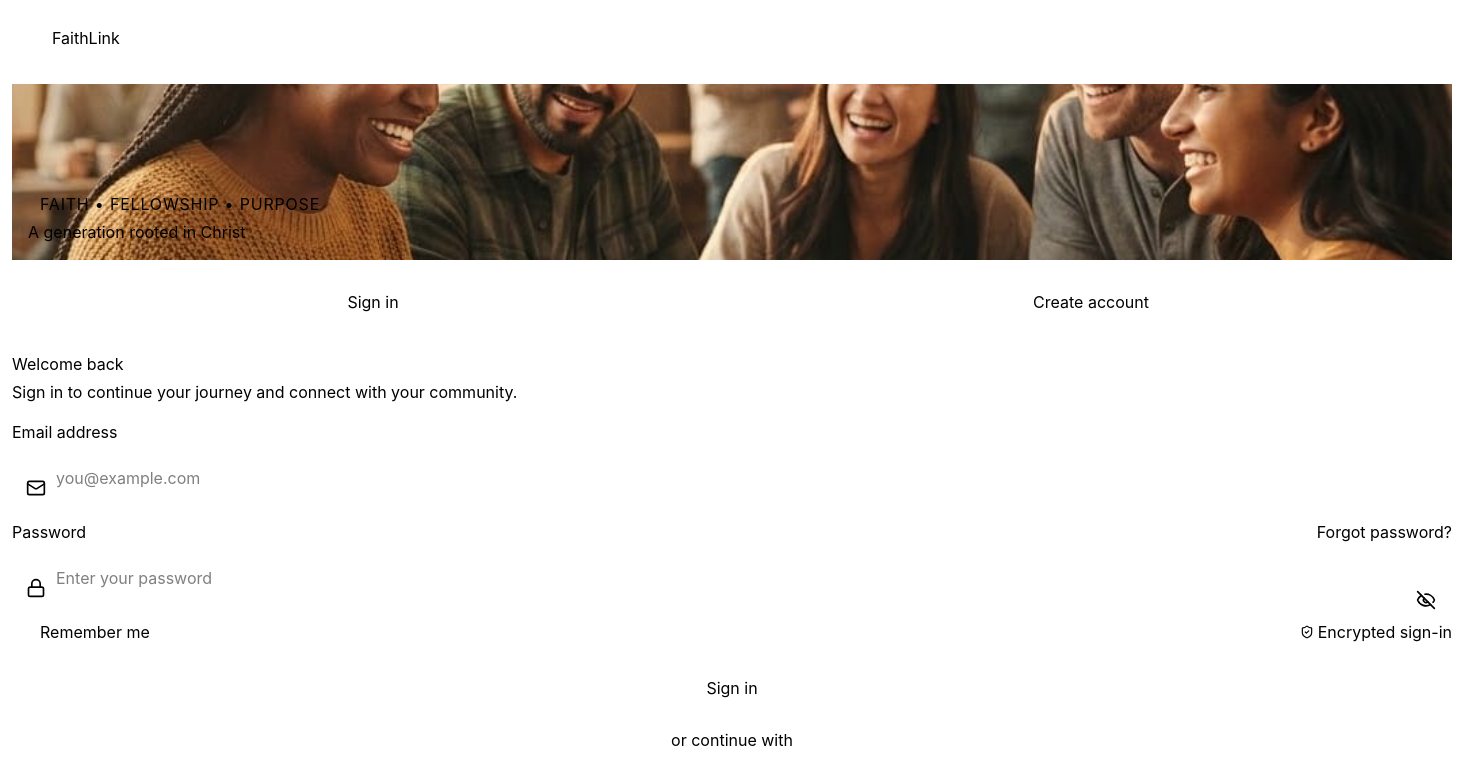
it: Sign in page › shows the Stitch error for a failed sign-in, without saying which detail was wrong
Type "alex@example.com" into the field labelled "Email address". click: (732, 478)
box: top-left (12, 452), bottom-right (1452, 504)
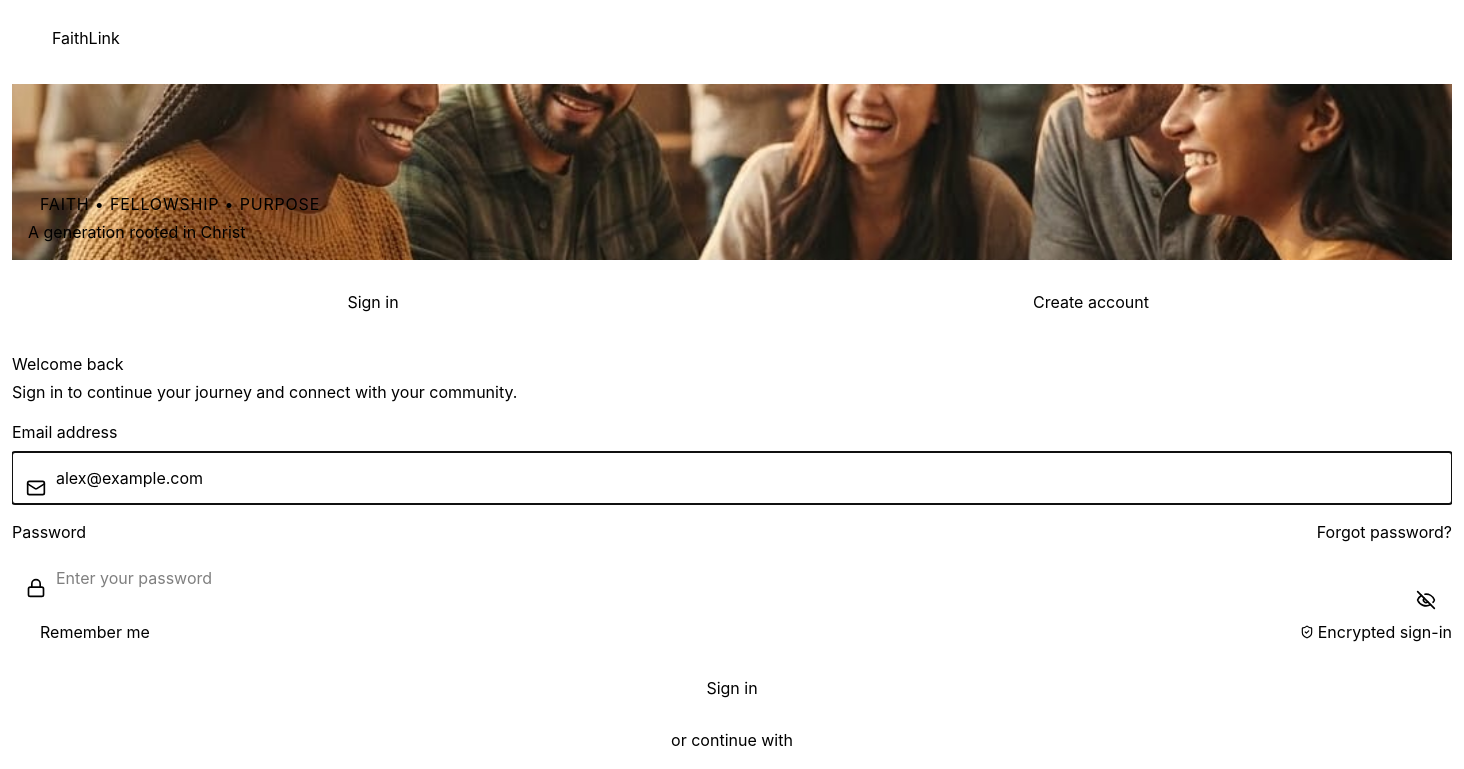
Type "wrong-password" into the password field labelled "Password". click: (732, 578)
box: top-left (12, 552), bottom-right (1452, 604)
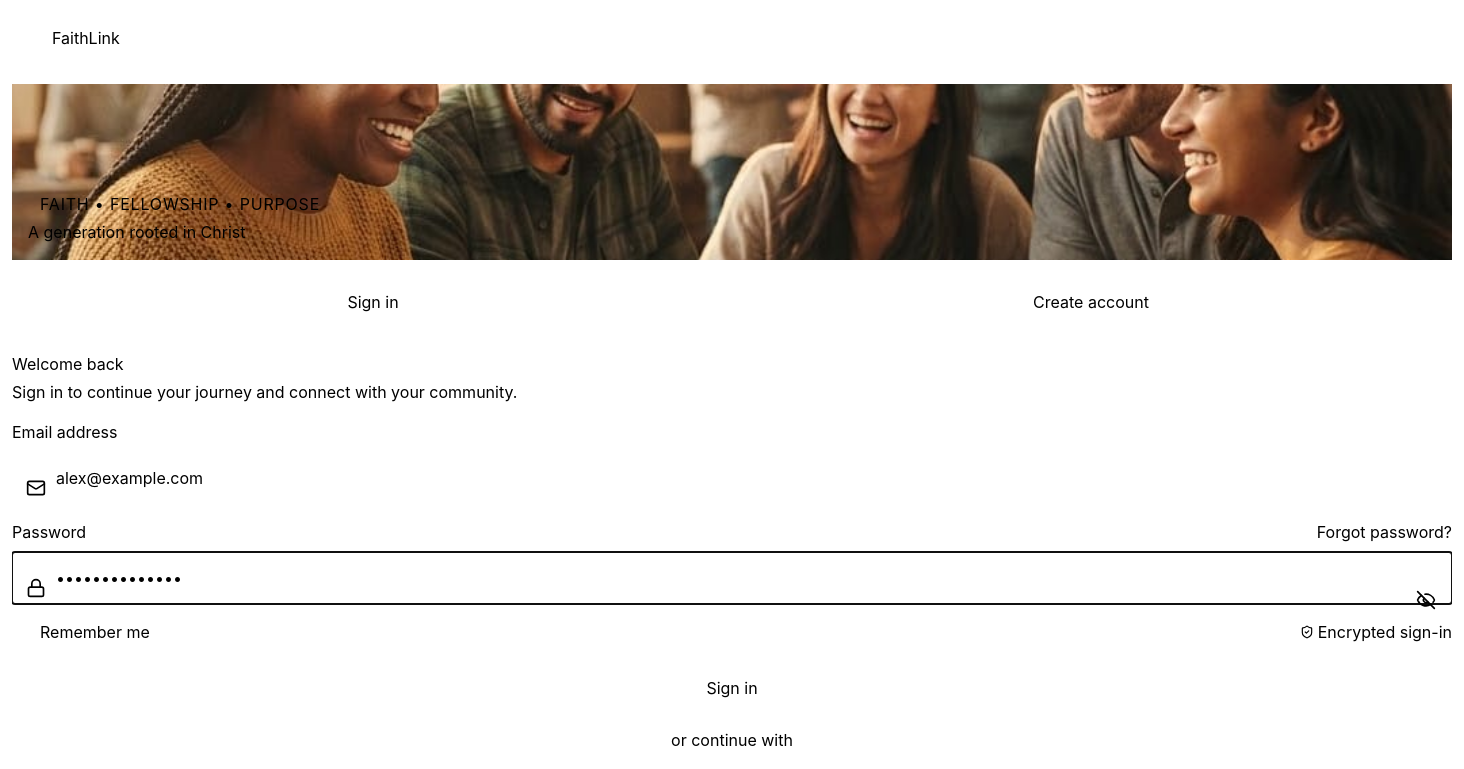
Click the button "Sign in". click: (732, 688)
box: top-left (12, 664), bottom-right (1452, 712)
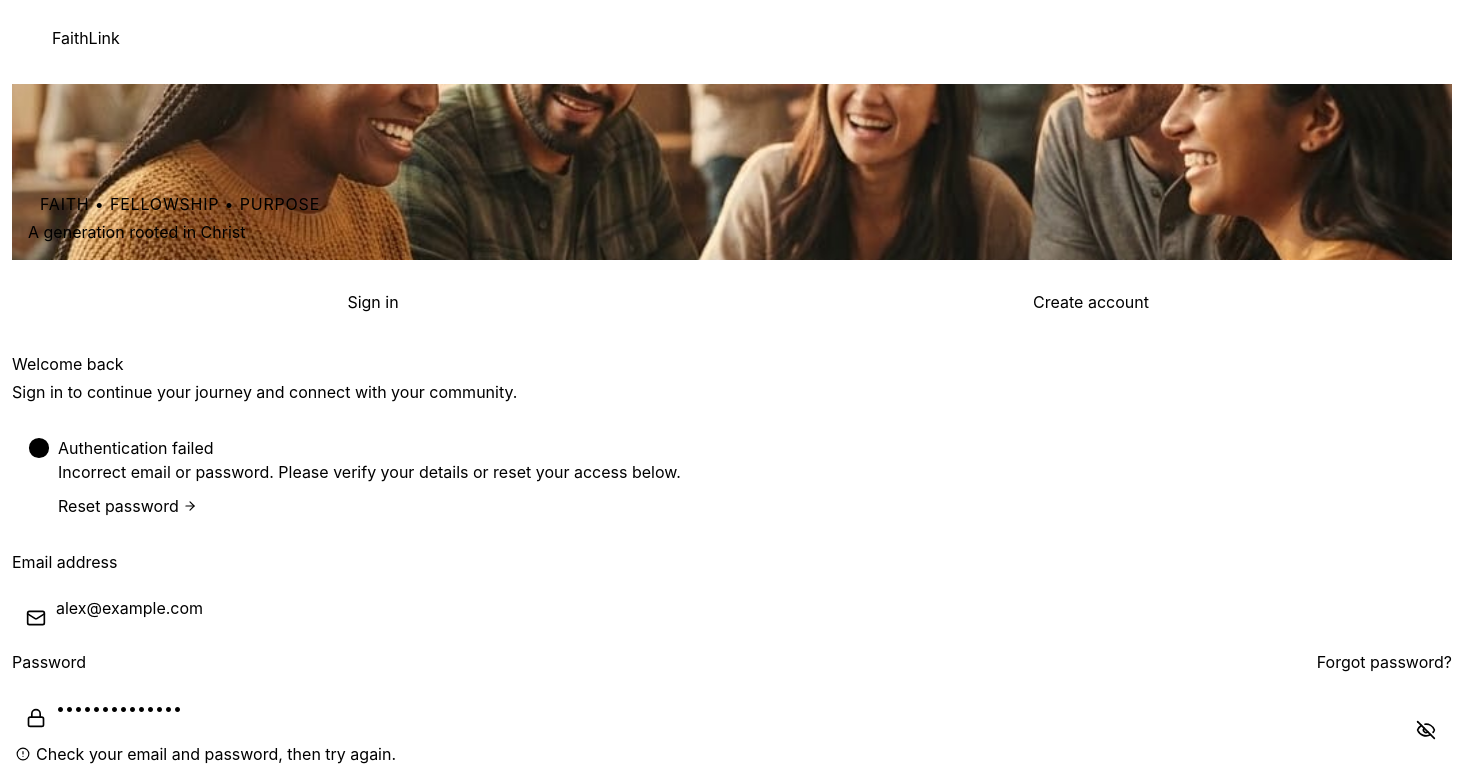
Now the message shows "Authentication failed", box top-left (58, 438), bottom-right (214, 458)
Now the message shows "Incorrect email or password. Please verify your details or reset your access below.", box top-left (58, 462), bottom-right (681, 482)
Now the text "Check your email and password, then try again." is shown, box top-left (16, 744), bottom-right (396, 764)
